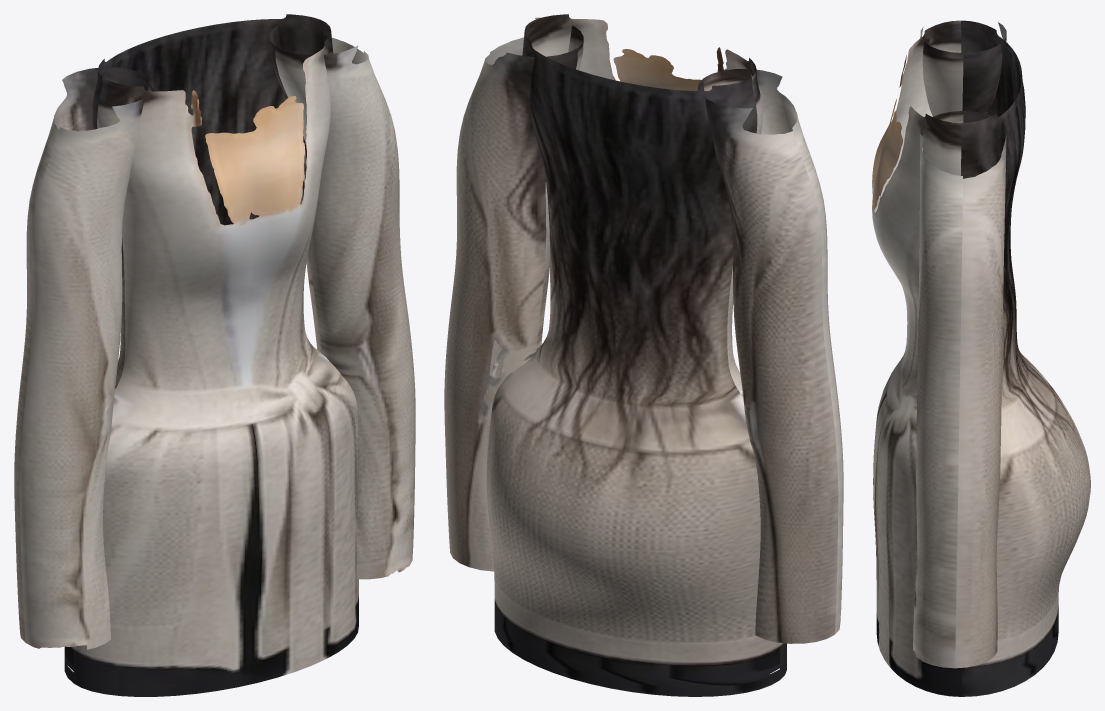
Rendered from prod-ae-linen-cinch-cardigan.glb.
The picture shows the model from 3 angles, left to right: view 1: azimuth 30°, elevation 25°; view 2: azimuth 150°, elevation 25°; view 3: azimuth 270°, elevation 25°; orthographic projection. The views are drawn at different scales.
Visible parts, largest first — view 1: prod-ae-linen-cinch-cardigan; view 2: prod-ae-linen-cinch-cardigan; view 3: prod-ae-linen-cinch-cardigan.
Part boxes in pixels (bbox=[...]): prod-ae-linen-cinch-cardigan: bbox=[14, 14, 415, 696]; prod-ae-linen-cinch-cardigan: bbox=[444, 14, 843, 696]; prod-ae-linen-cinch-cardigan: bbox=[872, 20, 1090, 696].
Bounding box in the file's own units: 0.4238 × 0.6214 × 0.2194.
1 material, 1 textured.
